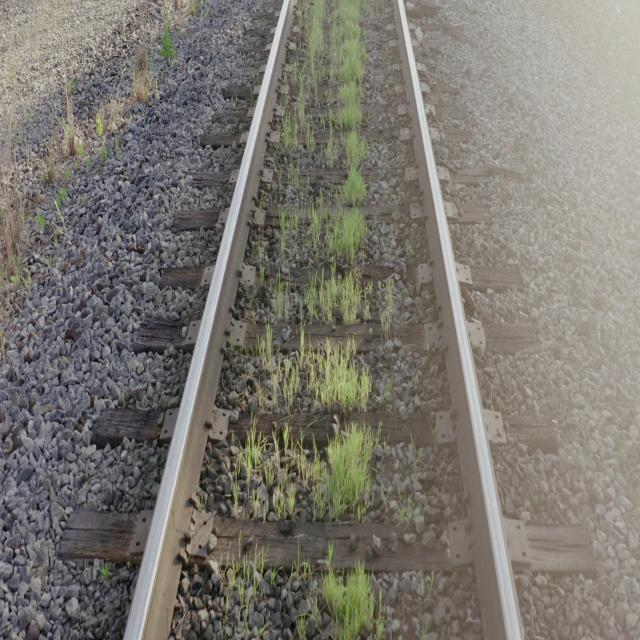Plant: (272, 0, 371, 324), (235, 418, 376, 520), (261, 338, 371, 416), (322, 562, 374, 640), (321, 569, 375, 638), (221, 567, 275, 622), (289, 162, 304, 193)
